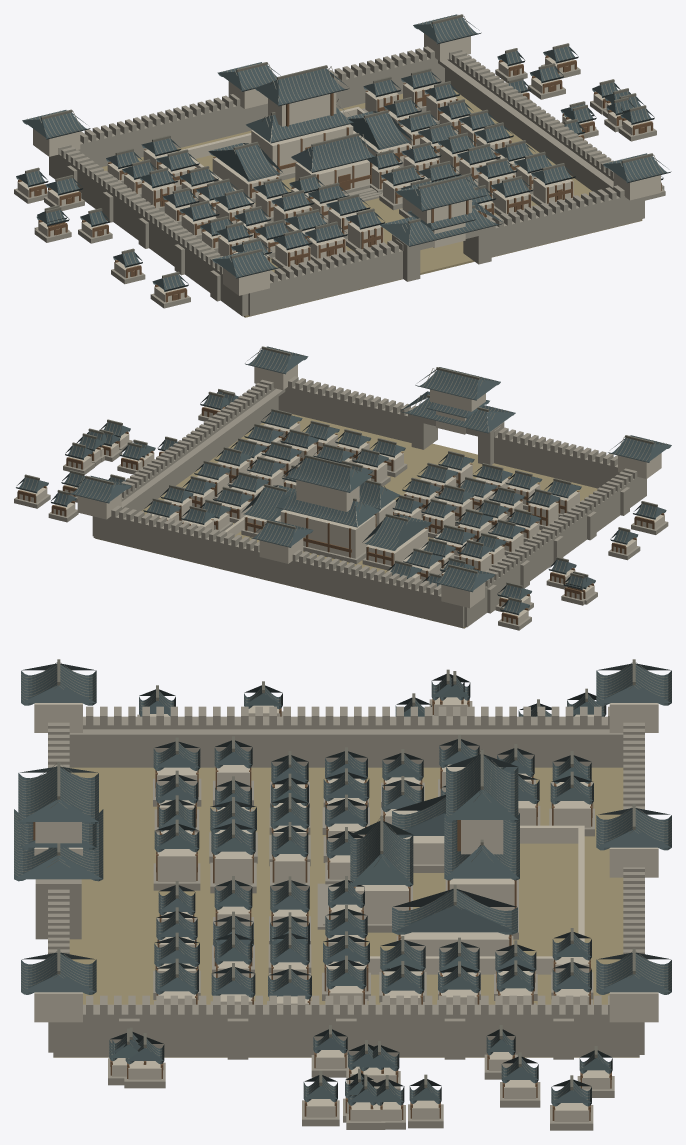
The model's file is city.glb.
The picture shows the model from 3 angles, top to bottom: view 1: azimuth 30°, elevation 25°; view 2: azimuth 150°, elevation 25°; view 3: azimuth 270°, elevation 25°; orthographic projection. The views are drawn at different scales.
Visible parts, largest first — view 1: City Warm limestone.004, City Slate tile.004, City Lime plaster.004, City Ridge pottery.004, City Dark timber.011, City Courtyard earth.004; view 2: City Warm limestone.004, City Slate tile.004, City Lime plaster.004, City Ridge pottery.004, City Dark timber.011, City Courtyard earth.004; view 3: City Slate tile.004, City Warm limestone.004, City Courtyard earth.004, City Lime plaster.004, City Ridge pottery.004, City Dark timber.011.
Boxes of the visible parts, x1,y1,x2,y2 form: City Warm limestone.004: [14, 46, 665, 316]; City Slate tile.004: [16, 14, 671, 291]; City Lime plaster.004: [17, 33, 661, 302]; City Ridge pottery.004: [25, 14, 666, 289]; City Dark timber.011: [17, 55, 661, 302]; City Courtyard earth.004: [102, 90, 642, 317]; City Warm limestone.004: [14, 376, 668, 630]; City Slate tile.004: [16, 346, 671, 615]; City Lime plaster.004: [17, 364, 664, 624]; City Ridge pottery.004: [22, 346, 666, 612]; City Dark timber.011: [17, 407, 664, 624]; City Courtyard earth.004: [95, 414, 597, 628]; City Slate tile.004: [14, 663, 671, 1106]; City Warm limestone.004: [35, 699, 644, 1130]; City Courtyard earth.004: [53, 767, 639, 1057]; City Lime plaster.004: [34, 697, 658, 1121]; City Ridge pottery.004: [14, 659, 671, 1101]; City Dark timber.011: [33, 699, 611, 1120].
Size of the model in its own units: 18.5 by 2.91 by 12.12.
